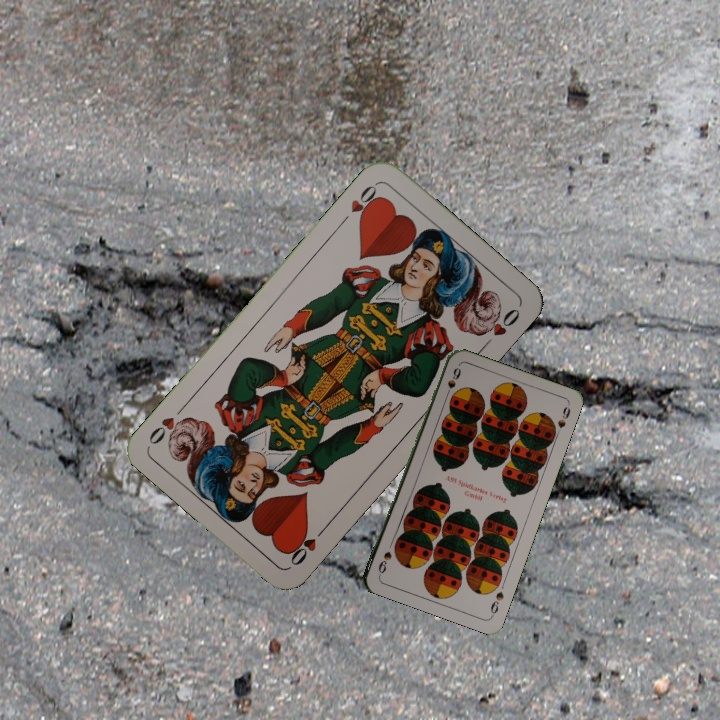HO: (336, 179, 383, 228), (285, 521, 331, 569)
S9: (441, 364, 462, 402), (486, 587, 506, 619)
